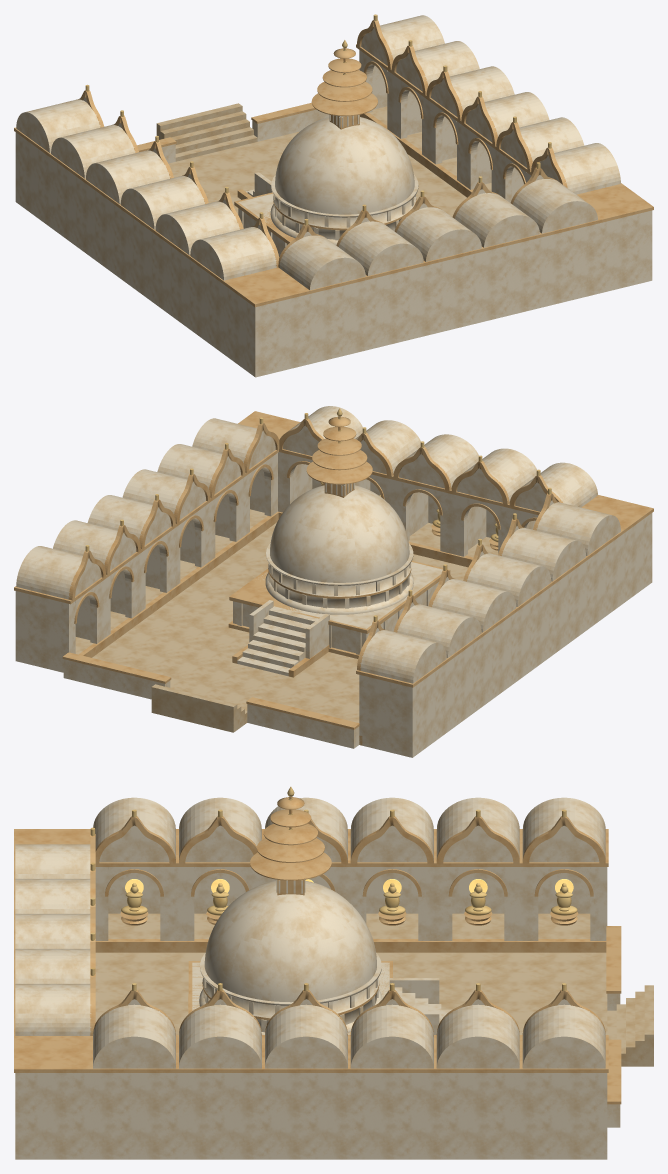
File: reconstructed.glb
The picture shows the model from 3 angles, top to bottom: view 1: azimuth 30°, elevation 25°; view 2: azimuth 150°, elevation 25°; view 3: azimuth 270°, elevation 25°; orthographic projection. The views are drawn at different scales.
Visible parts, largest first — view 1: Recon_Plaster, Recon_OchreTrim, Recon_Paving, Recon_Gilded; view 2: Recon_Plaster, Recon_OchreTrim, Recon_Paving, Recon_Gilded; view 3: Recon_Plaster, Recon_OchreTrim, Recon_Paving, Recon_Gilded, Recon_Halo.
Part boxes in pixels (<box>): Recon_Plaster: <box>15,15,652,377</box>; Recon_OchreTrim: <box>14,20,653,307</box>; Recon_Paving: <box>156,103,491,216</box>; Recon_Gilded: <box>85,14,551,225</box>; Recon_Plaster: <box>15,406,652,757</box>; Recon_OchreTrim: <box>14,411,653,745</box>; Recon_Paving: <box>75,509,498,732</box>; Recon_Gilded: <box>85,408,551,621</box>; Recon_Plaster: <box>15,797,620,1159</box>; Recon_OchreTrim: <box>14,796,621,1104</box>; Recon_Paving: <box>95,913,653,1066</box>; Recon_Gilded: <box>90,786,577,990</box>; Recon_Halo: <box>125,879,573,892</box>.
Size of the model in its own units: 19.45 by 9.65 by 21.9.
Materials: 5 (5 with a texture image).
